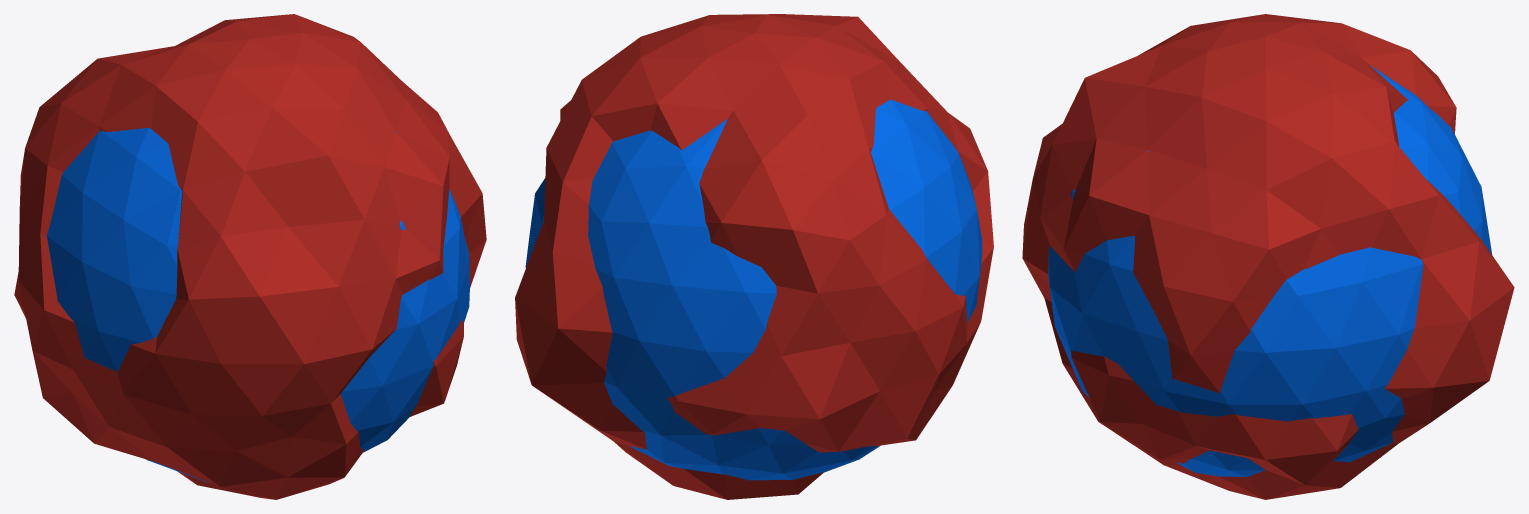
File: PurplePlanet.fbx
The picture shows the model from 3 angles, left to right: view 1: azimuth 30°, elevation 25°; view 2: azimuth 150°, elevation 25°; view 3: azimuth 270°, elevation 25°; orthographic projection.
Parts seen in each view (by area): view 1: RedPlanet_HiRes, RedPlanet_HiRes.001; view 2: RedPlanet_HiRes, RedPlanet_HiRes.001; view 3: RedPlanet_HiRes, RedPlanet_HiRes.001.
Boxes of the visible parts, <box> form: RedPlanet_HiRes: <box>14,14,486,499</box>; RedPlanet_HiRes.001: <box>47,127,469,482</box>; RedPlanet_HiRes: <box>515,14,993,499</box>; RedPlanet_HiRes.001: <box>525,99,982,480</box>; RedPlanet_HiRes: <box>1022,14,1514,499</box>; RedPlanet_HiRes.001: <box>1048,65,1492,476</box>.
Size of the model in its own units: 194 by 200 by 202.
